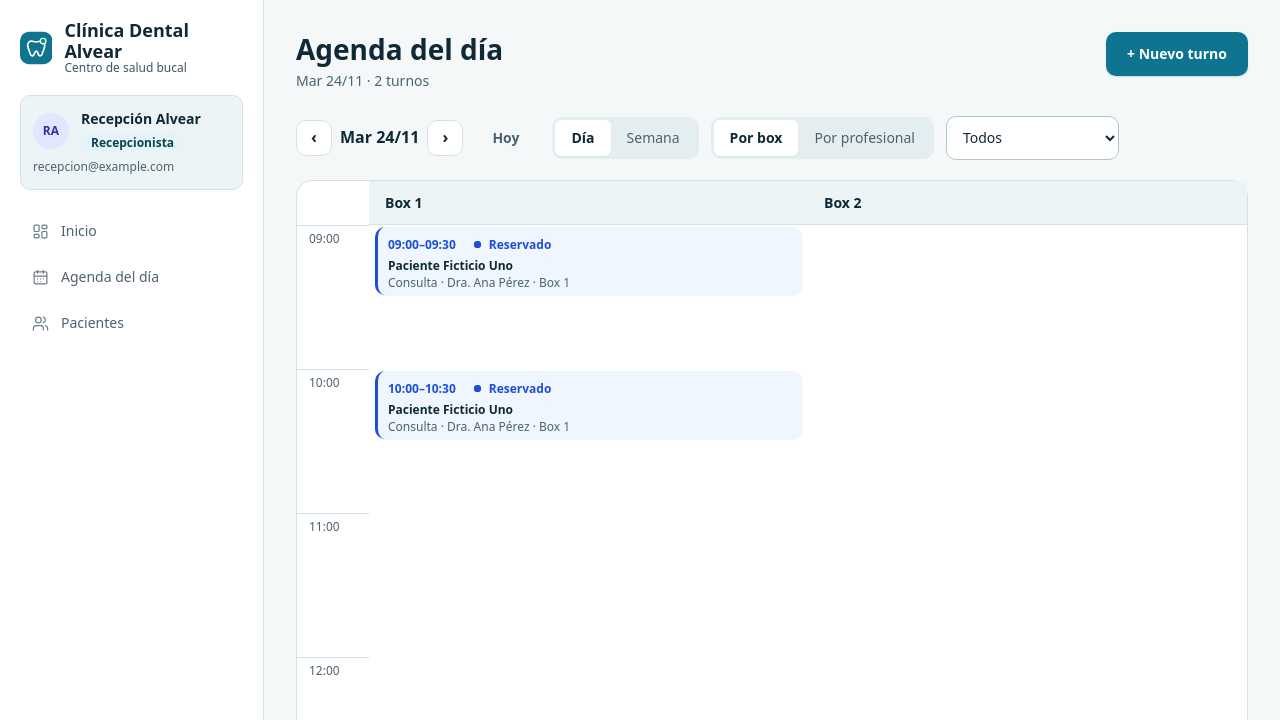
Requirement: Agenda por día y por semana › Cambiar a la vista semanal
What coordinates should you click on to do the following:
click the button "Semana"
I would click on:
 (653, 138)
Its box is [611,120,696,156].
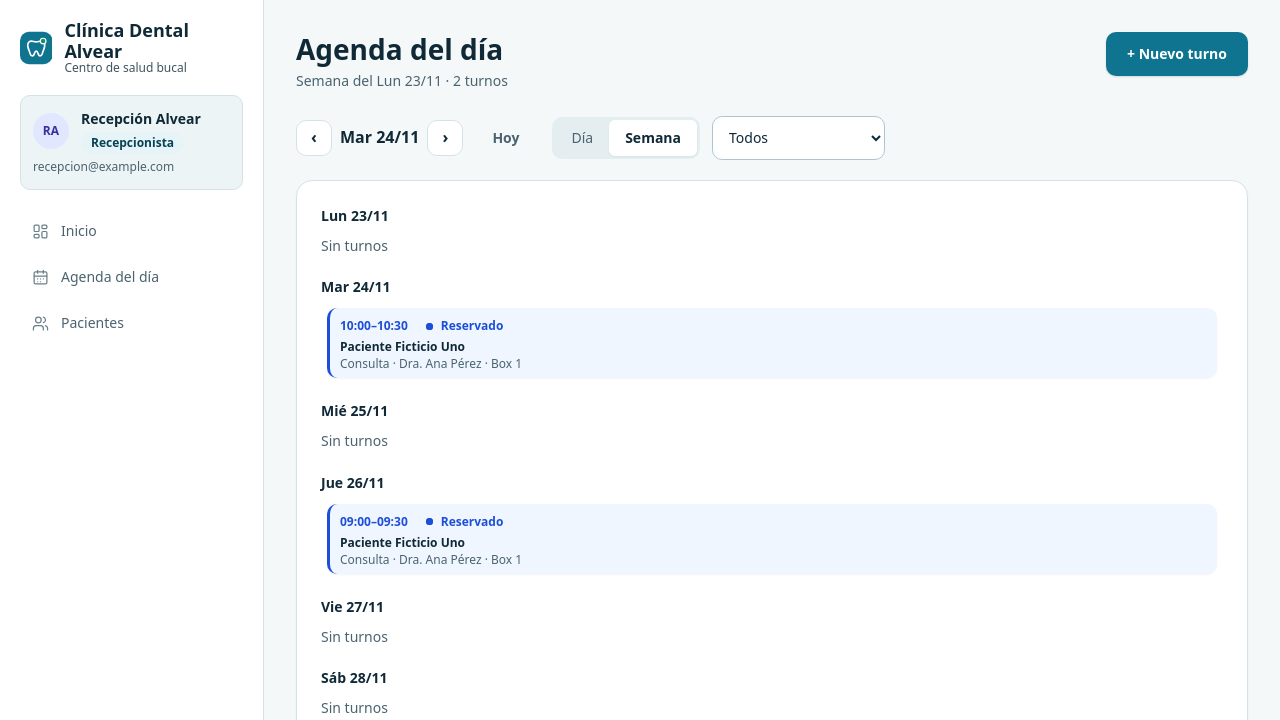
Expected: the text "10:00–10:30" is shown, [340,318,408,334]
Now the 1st text "Sin turnos" is shown, box [321,236,388,254]
